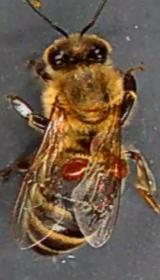varroa_mite: (54, 158, 95, 184), (106, 154, 132, 178)
